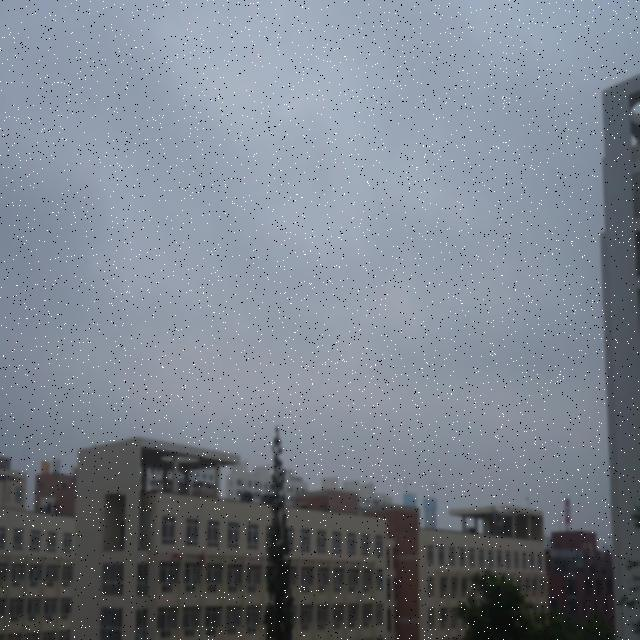UAV: (491, 505, 509, 526)
